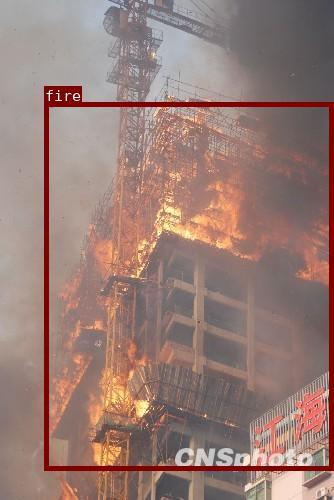fire: (44, 101, 332, 469)
